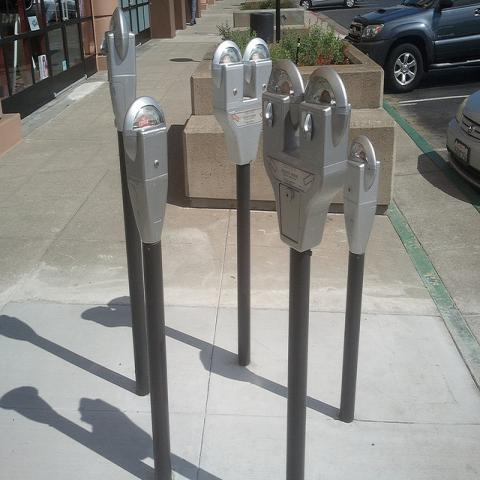car: (348, 0, 479, 92), (445, 89, 479, 193), (296, 1, 372, 10)
